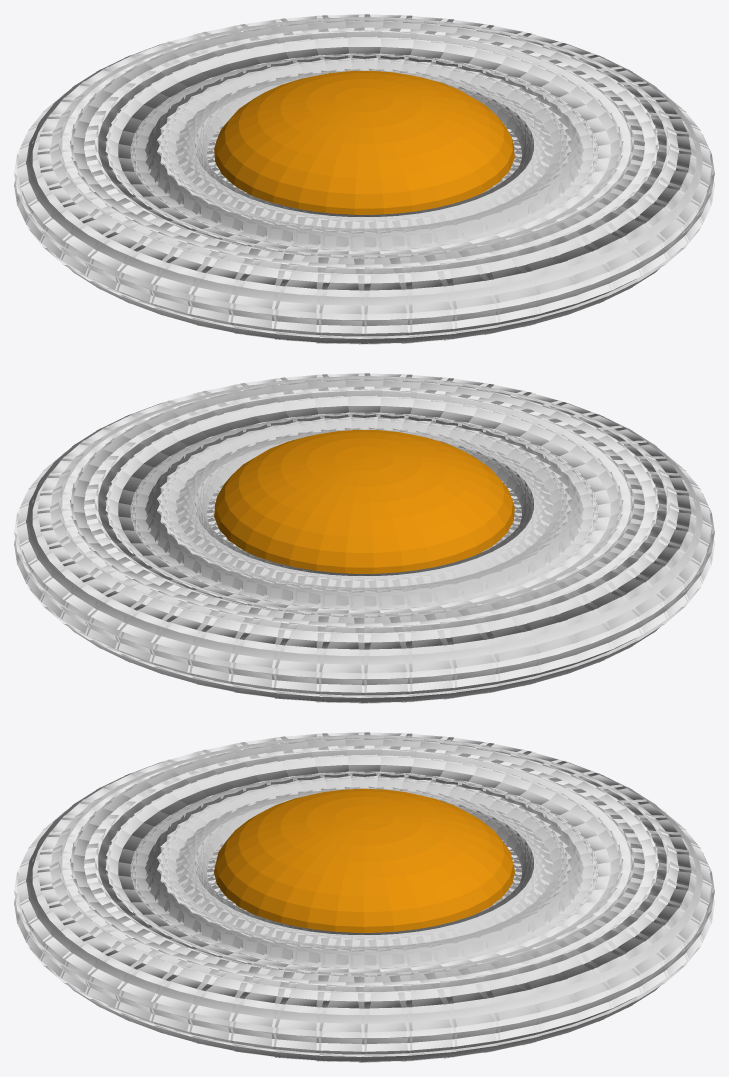
Rendered from ufo.fbx.
3 renders of one model, top to bottom at view 1: azimuth 30°, elevation 25°; view 2: azimuth 150°, elevation 25°; view 3: azimuth 270°, elevation 25°, orthographic.
Visible parts, largest first — view 1: Sphere; view 2: Sphere; view 3: Sphere.
Boxes of the visible parts, bbox=[...] form: Sphere: bbox=[14, 14, 714, 344]; Sphere: bbox=[14, 373, 714, 703]; Sphere: bbox=[14, 732, 714, 1062].
Bounding box in the file's own units: 792 × 146 × 792.
